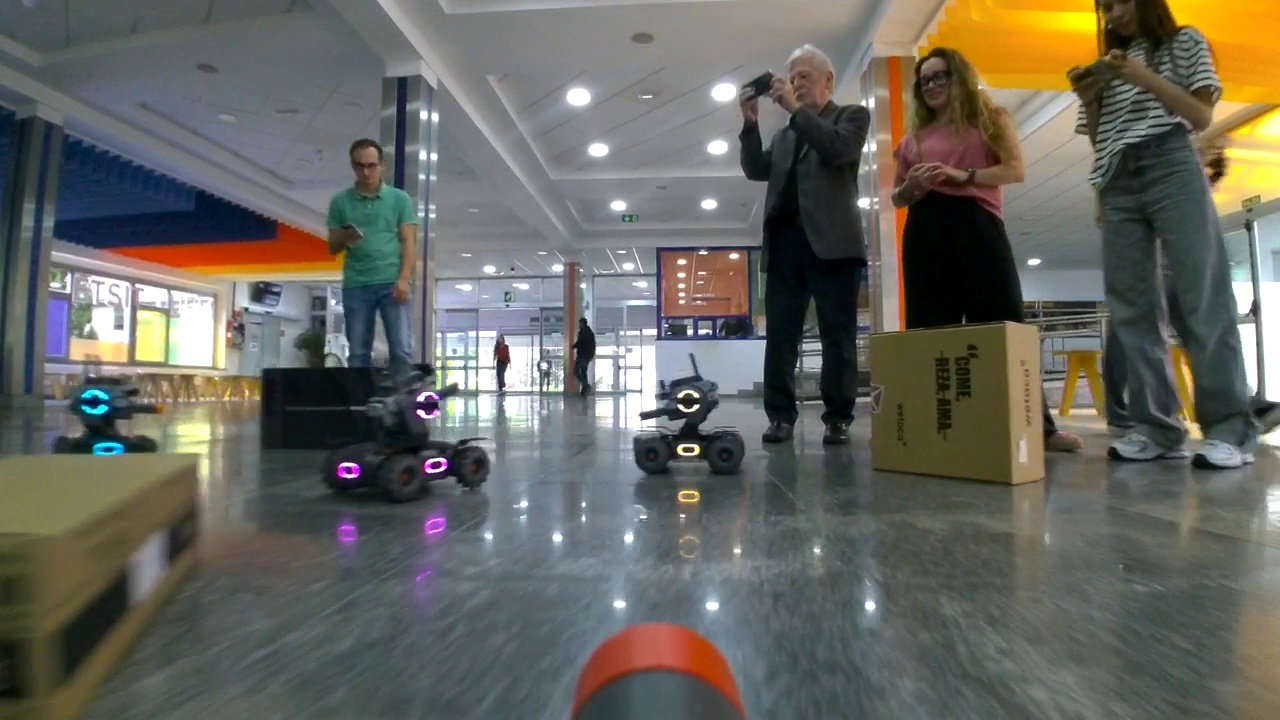robot: (319, 363, 494, 505), (629, 377, 746, 476)
